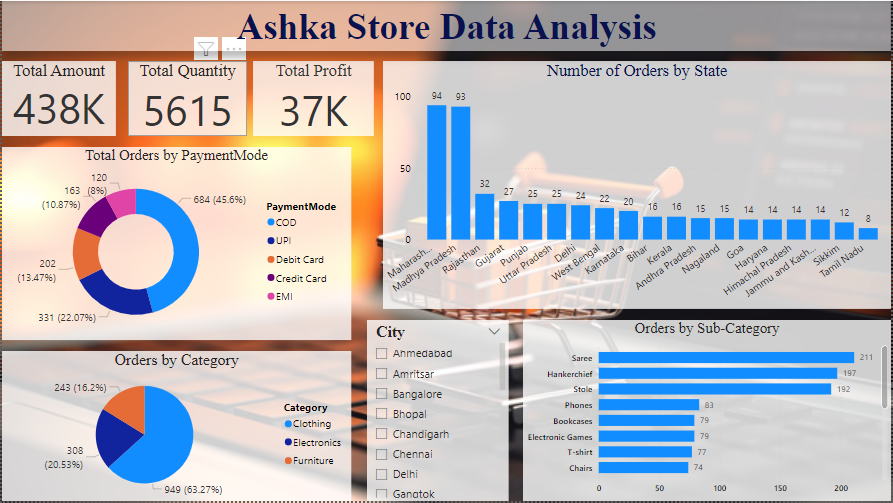

The dashboard page shown, as its layout file describes it:
{"tool":"powerbi","page":{"name":"Page 1","canvas":[1280,720],"ordinal":0},"visuals":[{"type":"donutChart","title":"Total Orders by PaymentMode","fields":{"Category":["DETAILS.PaymentMode"],"Y":["CountNonNull(DETAILS.PaymentMode)"]},"box":[0,210.2,502.6,277.9],"z":0},{"type":"clusteredColumnChart","title":"Number of Orders by State","fields":{"Category":["ORDERS.State"],"Y":["CountNonNull(ORDERS.State)"]},"box":[548.6,86.4,731.5,357.1],"z":1000},{"type":"card","title":"Total Amount","fields":{"Values":["Sum(DETAILS.Amount)"]},"box":[0,86.4,164.2,108],"z":2000},{"type":"card","title":"Total Profit","fields":{"Values":["Sum(DETAILS.Profit)"]},"box":[361.4,86.4,174.2,108],"z":3000},{"type":"card","title":"Total Quantity","fields":{"Values":["Sum(DETAILS.Quantity)"]},"box":[181.4,86.4,171.4,108],"z":4000},{"type":"pieChart","title":"Orders by Category","fields":{"Category":["DETAILS.Category"],"Y":["CountNonNull(DETAILS.Category)"]},"box":[0,504,502.6,216],"z":5000},{"type":"barChart","title":"Orders by Sub-Category","fields":{"Category":["DETAILS.Sub-Category"],"Y":["CountNonNull(DETAILS.Sub-Category)"]},"box":[750.2,459.4,529.9,260.6],"z":6000},{"type":"textbox","box":[0,0,1280.2,72],"z":7000},{"type":"slicer","fields":{"Values":["ORDERS.City"]},"box":[525.6,459.4,204.5,260.6],"z":8000}]}

Visuals, with their boxes in screenshot pixels (x1, y1, x2, y2), scaled from the page's 1280x720 canvas onto the 893x503 screenshot:
"Total Orders by PaymentMode" donutChart: bbox=(0, 147, 351, 341)
"Number of Orders by State" clusteredColumnChart: bbox=(383, 60, 892, 310)
"Total Amount" card: bbox=(0, 60, 115, 136)
"Total Profit" card: bbox=(252, 60, 374, 136)
"Total Quantity" card: bbox=(127, 60, 246, 136)
"Orders by Category" pieChart: bbox=(0, 352, 351, 502)
"Orders by Sub-Category" barChart: bbox=(523, 321, 892, 502)
textbox: bbox=(0, 0, 892, 50)
slicer - ORDERS.City: bbox=(367, 321, 509, 502)
